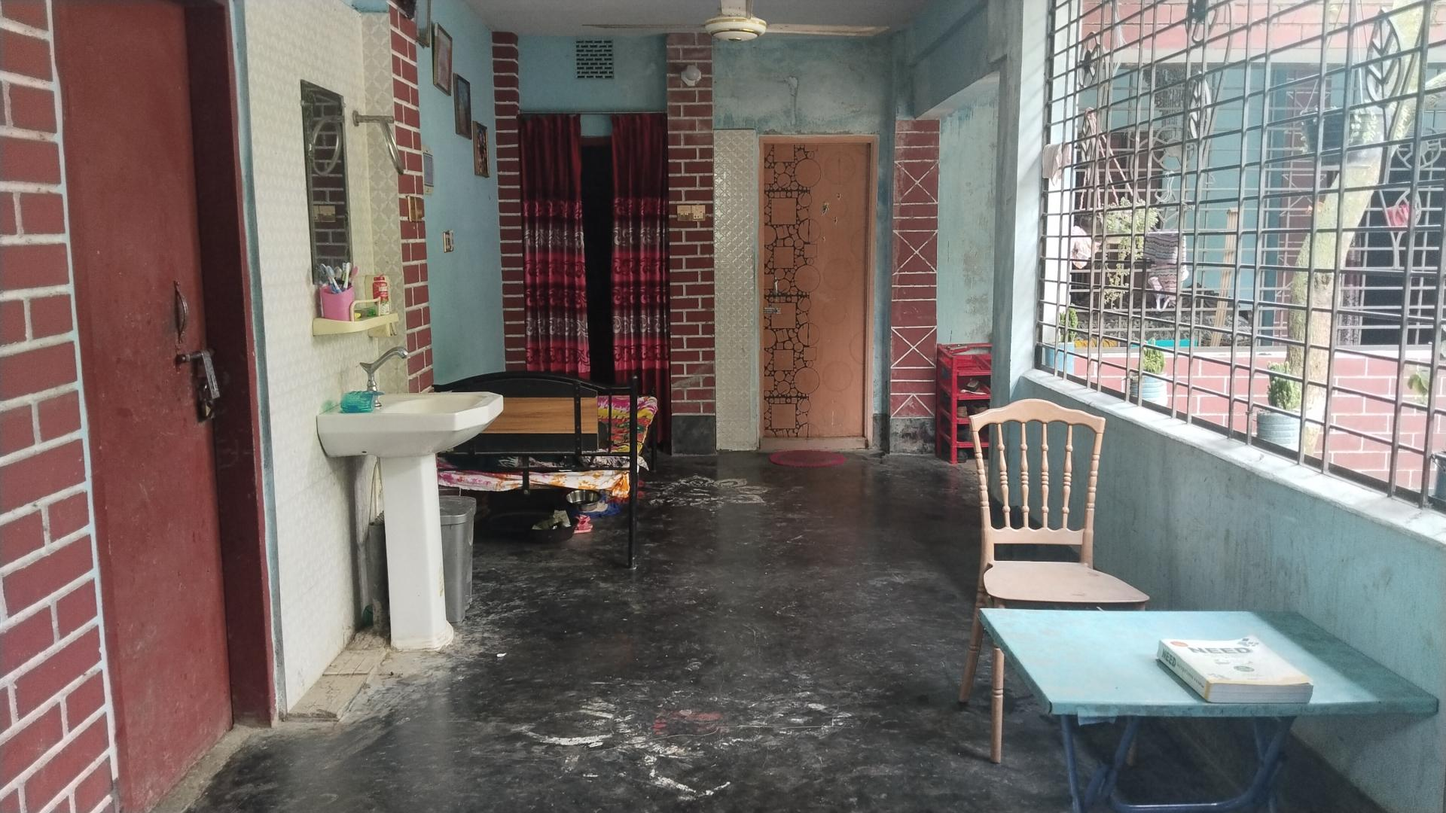Book: (1166, 637, 1309, 710)
Chair: (968, 398, 1147, 732)
Door: (758, 139, 871, 439)
Table: (979, 611, 1446, 813)
